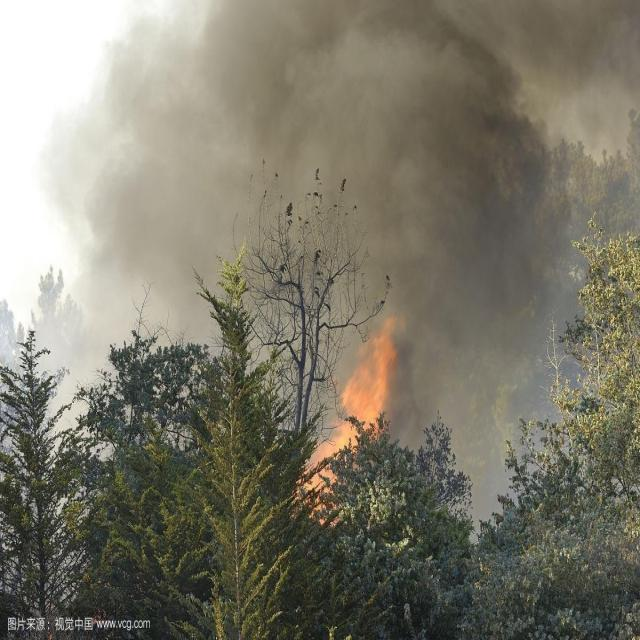Fire: (288, 310, 406, 528)
Smoke: (1, 1, 640, 546)
